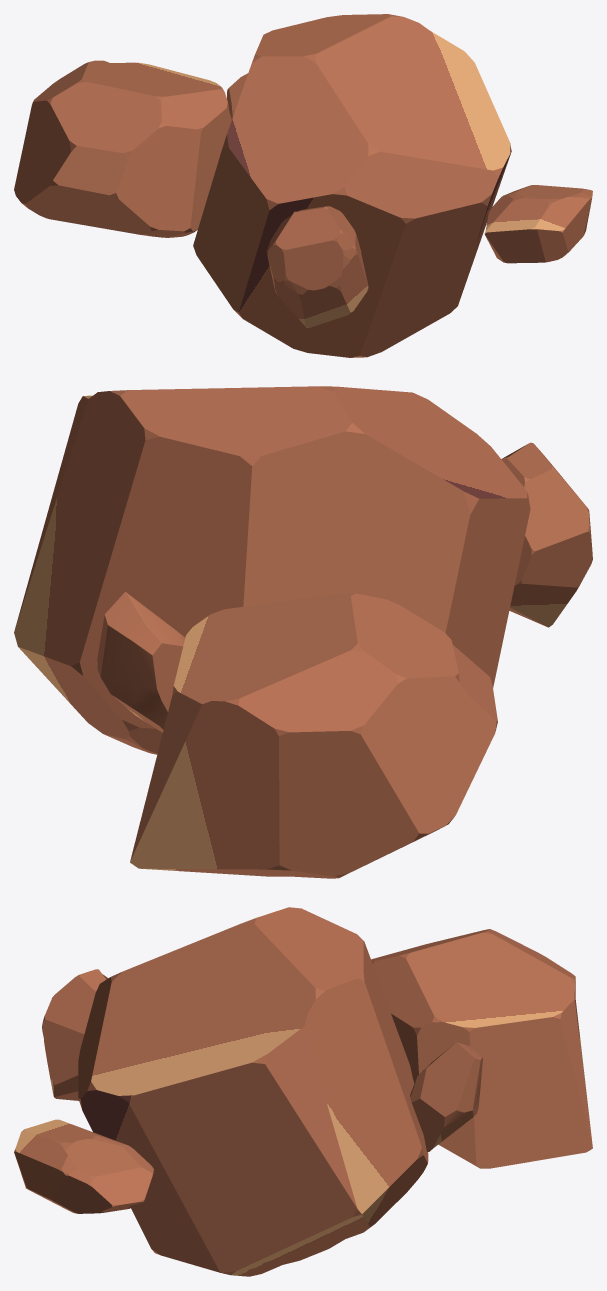
The model's file is RockPack_02.fbx.
The picture shows the model from 3 angles, top to bottom: view 1: azimuth 30°, elevation 25°; view 2: azimuth 150°, elevation 25°; view 3: azimuth 270°, elevation 25°; orthographic projection. The views are drawn at different scales.
Parts seen in each view (by area): view 1: RockPack_02; view 2: RockPack_02; view 3: RockPack_02.
Part boxes in pixels (x1,y1,x2,y2): RockPack_02: (14, 14, 592, 357); RockPack_02: (14, 386, 592, 878); RockPack_02: (14, 907, 592, 1276).
Bounding box in the file's own units: 575 × 380 × 630.
